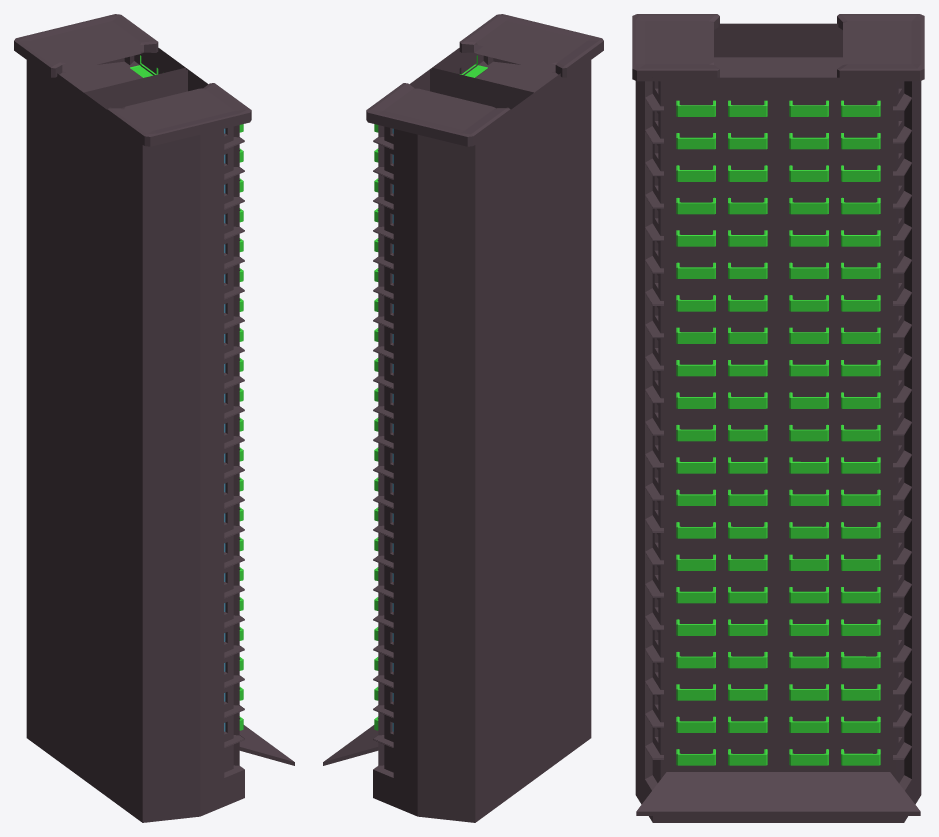
File: buildings19.fbx
3 renders of one model, left to right at view 1: azimuth 30°, elevation 25°; view 2: azimuth 150°, elevation 25°; view 3: azimuth 270°, elevation 25°, orthographic. The views are drawn at different scales.
Parts seen in each view (by area): view 1: 16; view 2: 16; view 3: 16.
Part boxes in pixels (x1,y1,x2,y2): 16: (14,14,294,822); 16: (323,14,603,822); 16: (632,14,924,822).
Size of the model in its own units: 7078 by 31264 by 11015.
